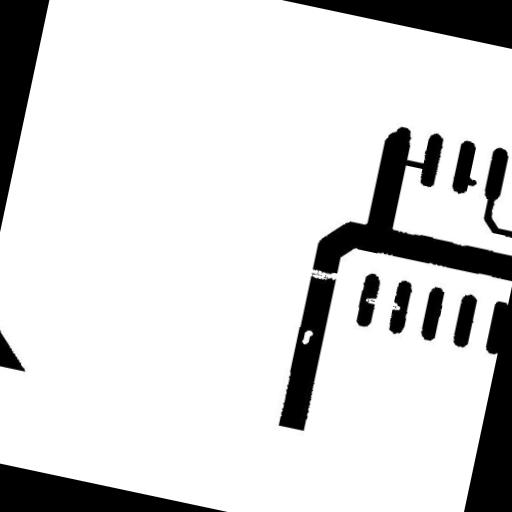mousebite: (378, 290, 410, 320), (356, 286, 386, 312)
open: (293, 256, 346, 290)
pin-hole: (292, 320, 322, 354)
short: (392, 150, 435, 178)
spur: (452, 166, 486, 196)
